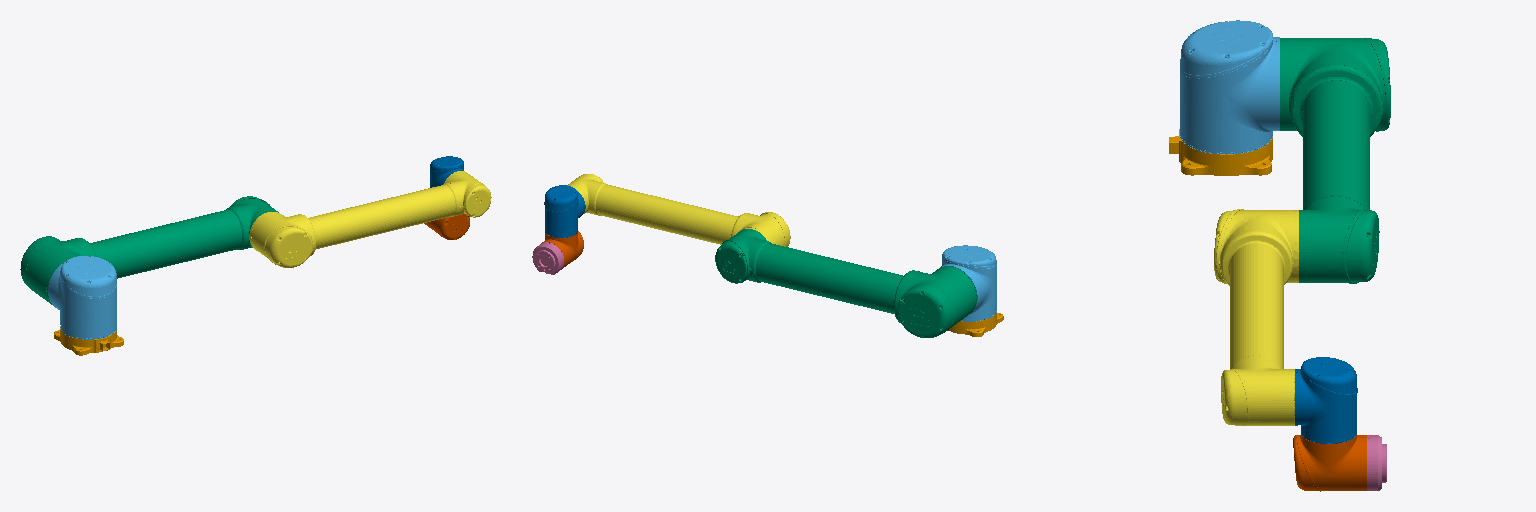
URDF robot description (ur10):
<?xml version="1.0" ?>
<!-- =================================================================================== -->
<!-- |    This document was autogenerated by xacro from urdf/ur10_robot.urdf.xacro     | -->
<!-- |    EDITING THIS FILE BY HAND IS NOT RECOMMENDED                                 | -->
<!-- =================================================================================== -->
<robot name="ur10" xmlns:xacro="http://www.ros.org/wiki/xacro">
  <!-- common stuff -->
  <gazebo>
    <plugin filename="libgazebo_ros_control.so" name="ros_control">
      <!--robotNamespace>/</robotNamespace-->
      <!--robotSimType>gazebo_ros_control/DefaultRobotHWSim</robotSimType-->
    </plugin>
    <!--
    <plugin name="gazebo_ros_power_monitor_controller" filename="libgazebo_ros_power_monitor.so">
      <alwaysOn>true</alwaysOn>
      <updateRate>1.0</updateRate>
      <timeout>5</timeout>
      <powerStateTopic>power_state</powerStateTopic>
      <powerStateRate>10.0</powerStateRate>
      <fullChargeCapacity>87.78</fullChargeCapacity>     
      <dischargeRate>-474</dischargeRate>
      <chargeRate>525</chargeRate>
      <dischargeVoltage>15.52</dischargeVoltage>
      <chargeVoltage>16.41</chargeVoltage>
    </plugin>
-->
  </gazebo>
  <!-- ur10 -->
  <!-- arm -->
  <link name="base_link">
    <visual>
      <geometry>
        <mesh filename="../meshes/visual/Base.stl"/>
      </geometry>
    </visual>
    <collision>
      <geometry>
        <mesh filename="../meshes/collision/Base.stl"/>
      </geometry>
    </collision>
    <inertial>
      <mass value="4.0"/>
      <origin rpy="0 0 0" xyz="0.0 0.0 0.0"/>
      <inertia ixx="0.0061063308908" ixy="0.0" ixz="0.0" iyy="0.0061063308908" iyz="0.0" izz="0.01125"/>
    </inertial>
  </link>
  <joint name="shoulder_pan_joint" type="revolute">
    <parent link="base_link"/>
    <child link="shoulder_link"/>
    <origin rpy="0.0 0.0 0.0" xyz="0.0 0.0 0.1273"/>
    <axis xyz="0 0 1"/>
    <limit effort="330.0" lower="-6.2831853" upper="6.2831853" velocity="2.16"/>
    <dynamics damping="0.0" friction="0.0"/>
  </joint>
  <link name="shoulder_link">
    <visual>
      <geometry>
        <mesh filename="../meshes/visual/Shoulder.stl"/>
      </geometry>
    </visual>
    <collision>
      <geometry>
        <mesh filename="../meshes/collision/Shoulder.stl"/>
      </geometry>
    </collision>
    <inertial>
      <mass value="7.778"/>
      <origin rpy="0 0 0" xyz="0.0 0.0 0.0"/>
      <inertia ixx="0.0314743125769" ixy="0.0" ixz="0.0" iyy="0.0314743125769" iyz="0.0" izz="0.021875625"/>
    </inertial>
  </link>
  <joint name="shoulder_lift_joint" type="revolute">
    <parent link="shoulder_link"/>
    <child link="upper_arm_link"/>
    <origin rpy="0.0 1.570796325 0.0" xyz="0.0 0.220941 0.0"/>
    <axis xyz="0 1 0"/>
    <limit effort="330.0" lower="-6.2831853" upper="6.2831853" velocity="2.16"/>
    <dynamics damping="0.0" friction="0.0"/>
  </joint>
  <link name="upper_arm_link">
    <visual>
      <geometry>
        <mesh filename="../meshes/visual/UpperArm.stl"/>
      </geometry>
    </visual>
    <collision>
      <geometry>
        <mesh filename="../meshes/collision/UpperArm.stl"/>
      </geometry>
    </collision>
    <inertial>
      <mass value="12.93"/>
      <origin rpy="0 0 0" xyz="0.0 0.0 0.306"/>
      <inertia ixx="0.421753803798" ixy="0.0" ixz="0.0" iyy="0.421753803798" iyz="0.0" izz="0.036365625"/>
    </inertial>
  </link>
  <joint name="elbow_joint" type="revolute">
    <parent link="upper_arm_link"/>
    <child link="forearm_link"/>
    <origin rpy="0.0 0.0 0.0" xyz="0.0 -0.1719 0.612"/>
    <axis xyz="0 1 0"/>
    <limit effort="150.0" lower="-6.2831853" upper="6.2831853" velocity="3.15"/>
    <dynamics damping="0.0" friction="0.0"/>
  </joint>
  <link name="forearm_link">
    <visual>
      <geometry>
        <mesh filename="../meshes/visual/Forearm.stl"/>
      </geometry>
    </visual>
    <collision>
      <geometry>
        <mesh filename="../meshes/collision/Forearm.stl"/>
      </geometry>
    </collision>
    <inertial>
      <mass value="3.87"/>
      <origin rpy="0 0 0" xyz="0.0 0.0 0.28615"/>
      <inertia ixx="0.111069694097" ixy="0.0" ixz="0.0" iyy="0.111069694097" iyz="0.0" izz="0.010884375"/>
    </inertial>
  </link>
  <joint name="wrist_1_joint" type="revolute">
    <parent link="forearm_link"/>
    <child link="wrist_1_link"/>
    <origin rpy="0.0 1.570796325 0.0" xyz="0.0 0.0 0.5723"/>
    <axis xyz="0 1 0"/>
    <limit effort="54.0" lower="-6.2831853" upper="6.2831853" velocity="3.2"/>
    <dynamics damping="0.0" friction="0.0"/>
  </joint>
  <link name="wrist_1_link">
    <visual>
      <geometry>
        <mesh filename="../meshes/visual/Wrist1.stl"/>
      </geometry>
    </visual>
    <collision>
      <geometry>
        <mesh filename="../meshes/collision/Wrist1.stl"/>
      </geometry>
    </collision>
    <inertial>
      <mass value="1.96"/>
      <origin rpy="0 0 0" xyz="0.0 0.0 0.0"/>
      <inertia ixx="0.0051082479567" ixy="0.0" ixz="0.0" iyy="0.0051082479567" iyz="0.0" izz="0.0055125"/>
    </inertial>
  </link>
  <joint name="wrist_2_joint" type="revolute">
    <parent link="wrist_1_link"/>
    <child link="wrist_2_link"/>
    <origin rpy="0.0 0.0 0.0" xyz="0.0 0.1149 0.0"/>
    <axis xyz="0 0 1"/>
    <limit effort="54.0" lower="-6.2831853" upper="6.2831853" velocity="3.2"/>
    <dynamics damping="0.0" friction="0.0"/>
  </joint>
  <link name="wrist_2_link">
    <visual>
      <geometry>
        <mesh filename="../meshes/visual/Wrist2.stl"/>
      </geometry>
    </visual>
    <collision>
      <geometry>
        <mesh filename="../meshes/collision/Wrist2.stl"/>
      </geometry>
    </collision>
    <inertial>
      <mass value="1.96"/>
      <origin rpy="0 0 0" xyz="0.0 0.0 0.0"/>
      <inertia ixx="0.0051082479567" ixy="0.0" ixz="0.0" iyy="0.0051082479567" iyz="0.0" izz="0.0055125"/>
    </inertial>
  </link>
  <joint name="wrist_3_joint" type="revolute">
    <parent link="wrist_2_link"/>
    <child link="wrist_3_link"/>
    <origin rpy="0.0 0.0 0.0" xyz="0.0 0.0 0.1157"/>
    <axis xyz="0 1 0"/>
    <limit effort="54.0" lower="-6.2831853" upper="6.2831853" velocity="3.2"/>
    <dynamics damping="0.0" friction="0.0"/>
  </joint>
  <link name="wrist_3_link">
    <visual>
      <geometry>
        <mesh filename="../meshes/visual/Wrist3.stl"/>
      </geometry>
    </visual>
    <collision>
      <geometry>
        <mesh filename="../meshes/collision/Wrist3.stl"/>
      </geometry>
    </collision>
    <inertial>
      <mass value="0.202"/>
      <origin rpy="0 0 0" xyz="0.0 0.0 0.0"/>
      <inertia ixx="0.000526462289415" ixy="0.0" ixz="0.0" iyy="0.000526462289415" iyz="0.0" izz="0.000568125"/>
    </inertial>
  </link>
  <joint name="ee_fixed_joint" type="fixed">
    <parent link="wrist_3_link"/>
    <child link="ee_link"/>
    <origin rpy="0.0 0.0 1.570796325" xyz="0.0 0.0922 0.0"/>
  </joint>
  <link name="ee_link"/>
  <transmission name="shoulder_pan_trans">
    <type>transmission_interface/SimpleTransmission</type>
    <joint name="shoulder_pan_joint"/>
    <actuator name="shoulder_pan_motor">
      <hardwareInterface>EffortJointInterface</hardwareInterface>
      <mechanicalReduction>1</mechanicalReduction>
    </actuator>
  </transmission>
  <transmission name="shoulder_lift_trans">
    <type>transmission_interface/SimpleTransmission</type>
    <joint name="shoulder_lift_joint"/>
    <actuator name="shoulder_lift_motor">
      <hardwareInterface>EffortJointInterface</hardwareInterface>
      <mechanicalReduction>1</mechanicalReduction>
    </actuator>
  </transmission>
  <transmission name="elbow_trans">
    <type>transmission_interface/SimpleTransmission</type>
    <joint name="elbow_joint"/>
    <actuator name="elbow_motor">
      <hardwareInterface>EffortJointInterface</hardwareInterface>
      <mechanicalReduction>1</mechanicalReduction>
    </actuator>
  </transmission>
  <transmission name="wrist_1_trans">
    <type>transmission_interface/SimpleTransmission</type>
    <joint name="wrist_1_joint"/>
    <actuator name="wrist_1_motor">
      <hardwareInterface>EffortJointInterface</hardwareInterface>
      <mechanicalReduction>1</mechanicalReduction>
    </actuator>
  </transmission>
  <transmission name="wrist_2_trans">
    <type>transmission_interface/SimpleTransmission</type>
    <joint name="wrist_2_joint"/>
    <actuator name="wrist_2_motor">
      <hardwareInterface>EffortJointInterface</hardwareInterface>
      <mechanicalReduction>1</mechanicalReduction>
    </actuator>
  </transmission>
  <transmission name="wrist_3_trans">
    <type>transmission_interface/SimpleTransmission</type>
    <joint name="wrist_3_joint"/>
    <actuator name="wrist_3_motor">
      <hardwareInterface>EffortJointInterface</hardwareInterface>
      <mechanicalReduction>1</mechanicalReduction>
    </actuator>
  </transmission>
  <link name="world"/>
  <joint name="world_joint" type="fixed">
    <parent link="world"/>
    <child link="base_link"/>
    <origin rpy="0.0 0.0 0.0" xyz="0.0 0.0 1.0"/>
  </joint>
</robot>

--- Render facts (derived) ---
Views: 3 orthographic renders of the robot side by side, from view 1: azimuth 30°, elevation 25°; view 2: azimuth 150°, elevation 25°; view 3: azimuth 270°, elevation 25°.
Model ur10 with 9 links and 8 joints (6 revolute, 2 fixed), rooted at world, posed every joint at zero.
Links seen in each view (by area): view 1: upper_arm_link, forearm_link, shoulder_link, base_link, wrist_2_link, wrist_1_link; view 2: upper_arm_link, forearm_link, shoulder_link, wrist_1_link, wrist_3_link, wrist_2_link, base_link; view 3: upper_arm_link, forearm_link, shoulder_link, wrist_1_link, wrist_2_link, base_link, wrist_3_link.
Boxes of the visible links, bbox=[...] form: upper_arm_link: bbox=[20, 196, 278, 304]; forearm_link: bbox=[249, 171, 491, 267]; shoulder_link: bbox=[48, 256, 116, 339]; base_link: bbox=[54, 328, 123, 355]; wrist_2_link: bbox=[424, 214, 469, 239]; wrist_1_link: bbox=[430, 156, 463, 187]; upper_arm_link: bbox=[715, 229, 976, 337]; forearm_link: bbox=[567, 174, 790, 246]; shoulder_link: bbox=[940, 245, 996, 321]; wrist_1_link: bbox=[544, 185, 585, 237]; wrist_3_link: bbox=[532, 242, 563, 274]; wrist_2_link: bbox=[542, 231, 583, 269]; base_link: bbox=[948, 313, 1003, 336]; upper_arm_link: bbox=[1280, 38, 1390, 283]; forearm_link: bbox=[1214, 209, 1298, 425]; shoulder_link: bbox=[1180, 20, 1279, 154]; wrist_1_link: bbox=[1295, 357, 1357, 443]; wrist_2_link: bbox=[1293, 435, 1366, 491]; base_link: bbox=[1169, 129, 1272, 175]; wrist_3_link: bbox=[1367, 435, 1386, 490].
Size in the robot's own frame: 1.31 by 0.3552 by 0.2501 metres.
7 mesh visuals loaded from 7 distinct referenced files (7 binary STL).